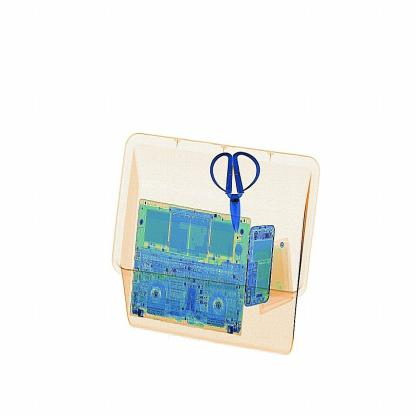gun: (206, 144, 271, 245)
